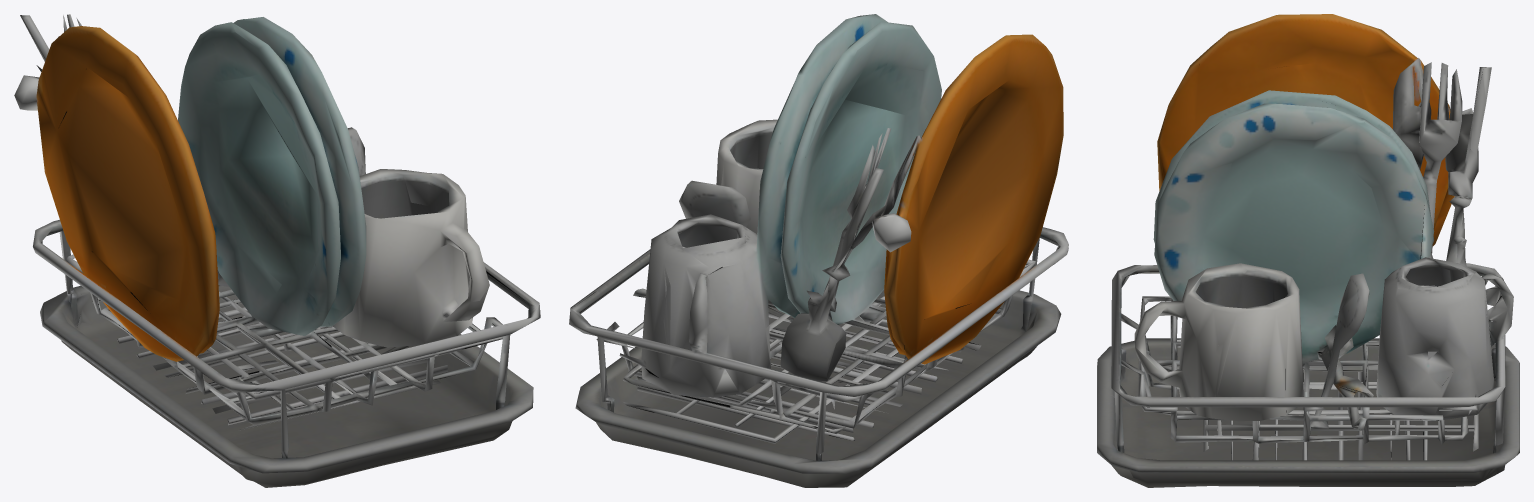
Rendered from dish_rack.glb.
The picture shows the model from 3 angles, left to right: view 1: azimuth 30°, elevation 25°; view 2: azimuth 150°, elevation 25°; view 3: azimuth 270°, elevation 25°; orthographic projection. The views are drawn at different scales.
Parts seen in each view (by area): view 1: dish_rack; view 2: dish_rack; view 3: dish_rack.
Part boxes in pixels (<box>): dish_rack: <box>14,14,540,487</box>; dish_rack: <box>569,14,1068,487</box>; dish_rack: <box>1097,14,1519,487</box>.
Bounding box in the file's own units: 0.3705 × 0.4065 × 0.4486.
Materials: 1 (1 with a texture image).
